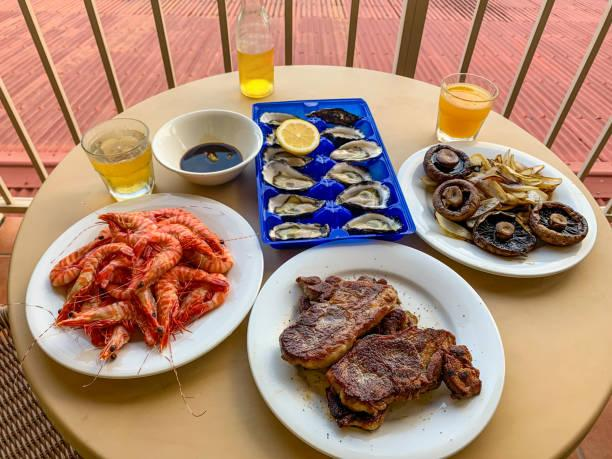Braised Crucian Carp: (246, 241, 502, 458), (25, 194, 260, 379), (394, 141, 597, 278), (252, 97, 415, 248)
